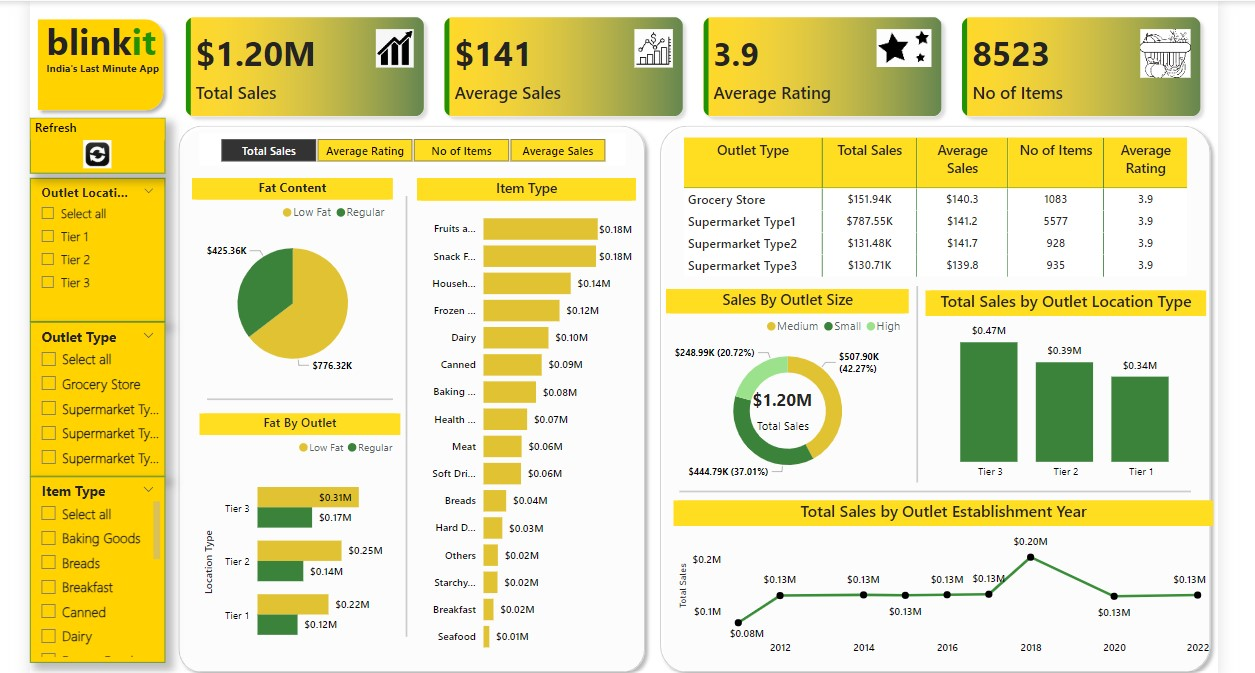

What the dashboard file says about the page in this screenshot:
{"tool":"powerbi","page":{"name":"Page 1","canvas":[1400,800],"ordinal":0},"visuals":[{"type":"shape","box":[0,12.4,166.1,125.5],"z":0},{"type":"textbox","box":[14.1,12.4,152,93.7],"z":1000},{"type":"textbox","box":[14.1,63.6,152,42.4],"z":2000},{"type":"cardVisual","fields":{"Data":["BlinkIT Grocery Data.Total Sales","BlinkIT Grocery Data.Average Sales","BlinkIT Grocery Data.Average Rating","BlinkIT Grocery Data.No of Items"]},"box":[166.1,1.8,1233.6,152],"z":3000},{"type":"shape","box":[166.1,137.9,567.3,662.8],"z":4000},{"type":"slicer","fields":{"Values":["Metrics.Metrics"]},"box":[200.3,156.1,501.9,38.9],"z":5000},{"type":"pieChart","title":"Fat Content","fields":{"Y":["BlinkIT Grocery Data.Total Sales"],"Category":["BlinkIT Grocery Data.Item Fat Content"]},"box":[190.9,208.5,236.8,245.7],"z":6000},{"type":"clusteredBarChart","title":"Fat By Outlet","fields":{"Y":["BlinkIT Grocery Data.Total Sales"],"Category":["BlinkIT Grocery Data.Outlet Location Type"],"Series":["BlinkIT Grocery Data.Item Fat Content"]},"box":[199.7,486,236.8,293.4],"z":7000},{"type":"shape","box":[208.5,463,219.2,12.4],"z":8000},{"type":"shape","box":[436.5,229.8,14.1,519.6],"z":9000},{"type":"clusteredBarChart","title":"Item Type","fields":{"Y":["BlinkIT Grocery Data.Total Sales"],"Category":["BlinkIT Grocery Data.Item Type"]},"box":[456,208.5,258,570.9],"z":10000},{"type":"shape","box":[733.4,137.9,666.3,662.8],"z":11000},{"type":"lineChart","fields":{"Category":["BlinkIT Grocery Data.Outlet Establishment Year"],"Y":["BlinkIT Grocery Data.Total Sales"]},"box":[758.2,588.5,636.2,190.9],"z":12000},{"type":"shape","box":[765.3,567.3,602.7,21.2],"z":13000},{"type":"donutChart","title":"Sales By Outlet Size","fields":{"Y":["BlinkIT Grocery Data.Total Sales"],"Category":["BlinkIT Grocery Data.Outlet Size"]},"box":[749.4,339.3,286.3,233.3],"z":14000},{"type":"cardVisual","fields":{"Data":["BlinkIT Grocery Data.Total Sales"]},"box":[834.2,438.3,106,76],"z":15000},{"type":"shape","box":[1035.7,335.8,19.4,231.5],"z":16000},{"type":"columnChart","fields":{"Y":["BlinkIT Grocery Data.Total Sales"],"Category":["BlinkIT Grocery Data.Outlet Location Type"]},"box":[1055.1,341.1,330.5,231.5],"z":17000},{"type":"pivotTable","fields":{"Rows":["BlinkIT Grocery Data.Outlet Type"],"Values":["BlinkIT Grocery Data.Total Sales","BlinkIT Grocery Data.Average Sales","BlinkIT Grocery Data.No of Items","BlinkIT Grocery Data.Average Rating"]},"box":[765.3,155.5,620.3,180.3],"z":18000},{"type":"slicer","fields":{"Values":["BlinkIT Grocery Data.Outlet Location Type"]},"box":[0,208.5,159.1,169.7],"z":19000},{"type":"slicer","fields":{"Values":["BlinkIT Grocery Data.Outlet Type"]},"box":[0,378.2,159.1,182],"z":20000},{"type":"slicer","fields":{"Values":["BlinkIT Grocery Data.Item Type"]},"box":[0,560.2,159.1,219.2],"z":21000},{"type":"image","title":"Refresh","box":[0,137.9,159.1,65.4],"z":21002}]}

Visuals, with their boxes on the page's 1400x800 design canvas (x1, y1, x2, y2). These are canvas units, not pixel positions in the 1255x673 screenshot, which may show the page scaled, cropped or inside an application window:
shape: left=0, top=12, right=166, bottom=138
textbox: left=14, top=12, right=166, bottom=106
textbox: left=14, top=64, right=166, bottom=106
cardVisual - BlinkIT Grocery Data.Total Sales x BlinkIT Grocery Data.Average Sales: left=166, top=2, right=1400, bottom=154
shape: left=166, top=138, right=733, bottom=801
slicer - Metrics.Metrics: left=200, top=156, right=702, bottom=195
"Fat Content" pieChart: left=191, top=208, right=428, bottom=454
"Fat By Outlet" clusteredBarChart: left=200, top=486, right=436, bottom=779
shape: left=208, top=463, right=428, bottom=475
shape: left=436, top=230, right=451, bottom=749
"Item Type" clusteredBarChart: left=456, top=208, right=714, bottom=779
shape: left=733, top=138, right=1400, bottom=801
lineChart - BlinkIT Grocery Data.Outlet Establishment Year x BlinkIT Grocery Data.Total Sales: left=758, top=588, right=1394, bottom=779
shape: left=765, top=567, right=1368, bottom=588
"Sales By Outlet Size" donutChart: left=749, top=339, right=1036, bottom=573
cardVisual - BlinkIT Grocery Data.Total Sales: left=834, top=438, right=940, bottom=514
shape: left=1036, top=336, right=1055, bottom=567
columnChart - BlinkIT Grocery Data.Total Sales x BlinkIT Grocery Data.Outlet Location Type: left=1055, top=341, right=1386, bottom=573
pivotTable - BlinkIT Grocery Data.Outlet Type x BlinkIT Grocery Data.Total Sales: left=765, top=156, right=1386, bottom=336
slicer - BlinkIT Grocery Data.Outlet Location Type: left=0, top=208, right=159, bottom=378
slicer - BlinkIT Grocery Data.Outlet Type: left=0, top=378, right=159, bottom=560
slicer - BlinkIT Grocery Data.Item Type: left=0, top=560, right=159, bottom=779
"Refresh" image: left=0, top=138, right=159, bottom=203
